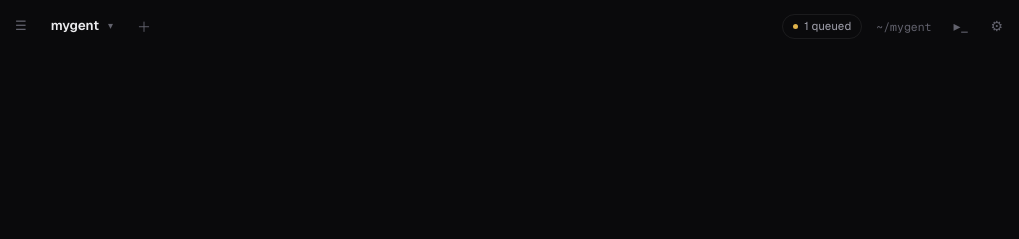
Test: TopBar › toggles the projects menu from the brand
The image size is (1019, 239).
Expected: the text "AD-HOC" is not shown
Click the button with aria-label "Toggle projects menu".
click(82, 26)  # box top-left (43, 14), bottom-right (121, 38)
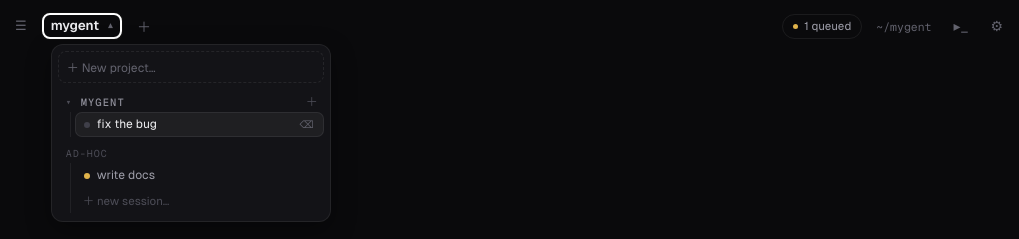
Expected: the text "AD-HOC" is shown, top-left (66, 147), bottom-right (108, 160)
Click the button with aria-label "Toggle projects menu".
click(82, 26)  # box top-left (43, 14), bottom-right (121, 38)
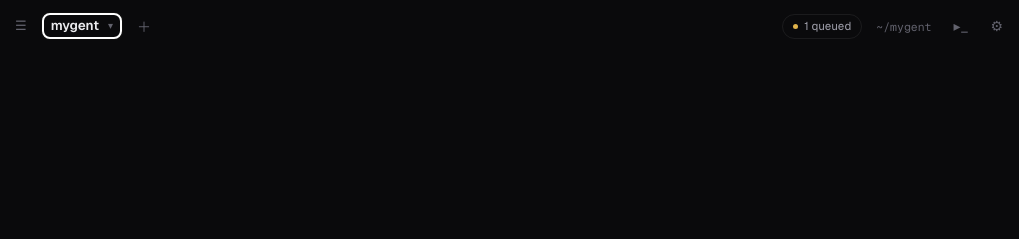
Expected: the text "AD-HOC" is gone
